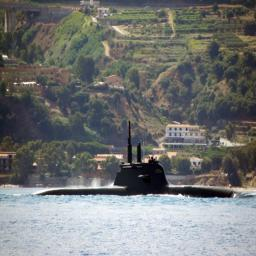submarine: (29, 117, 239, 197)
